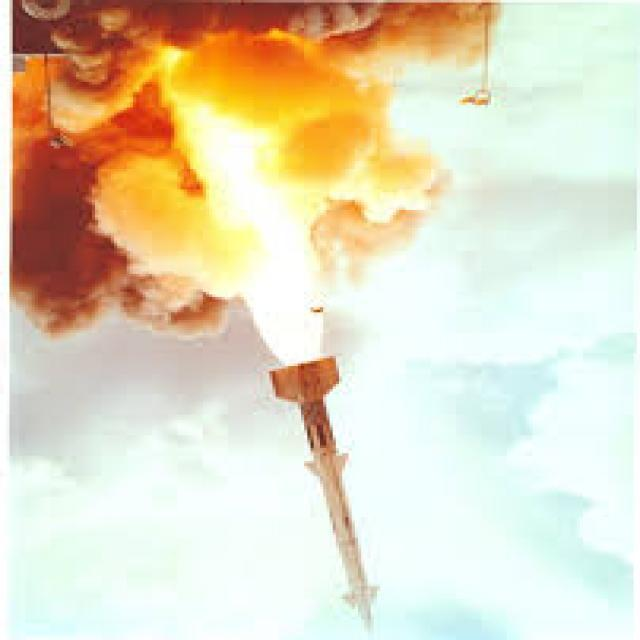Missile: (263, 348, 380, 640)
